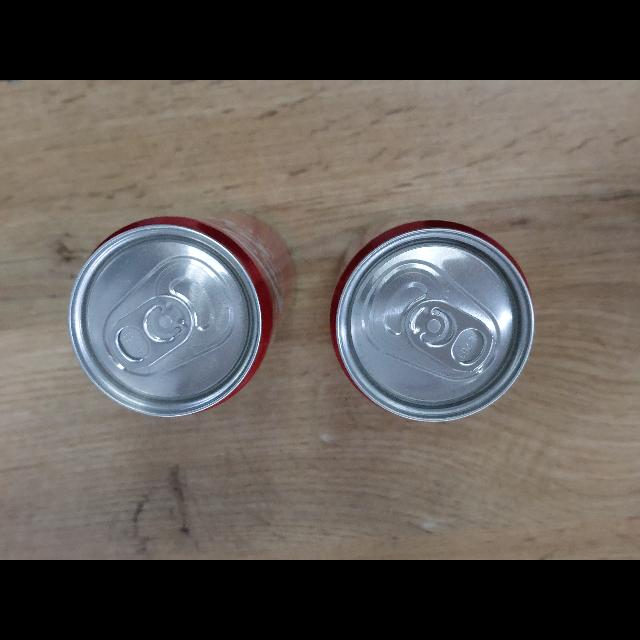coca_cola: (68, 217, 292, 416), (330, 221, 534, 421)
